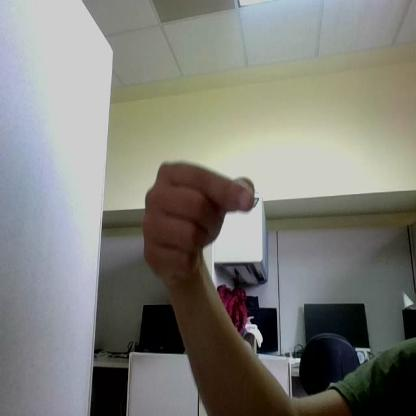G: (143, 160, 254, 284)
